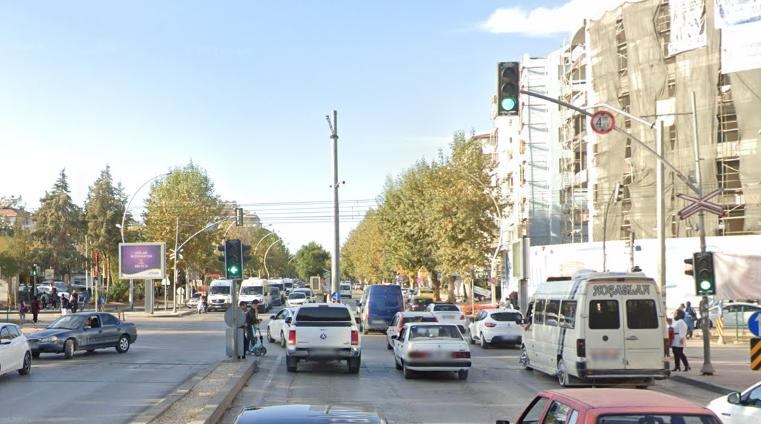forward: (750, 310, 761, 338)
greenlight: (498, 61, 522, 114), (693, 251, 715, 294), (226, 239, 244, 278)
